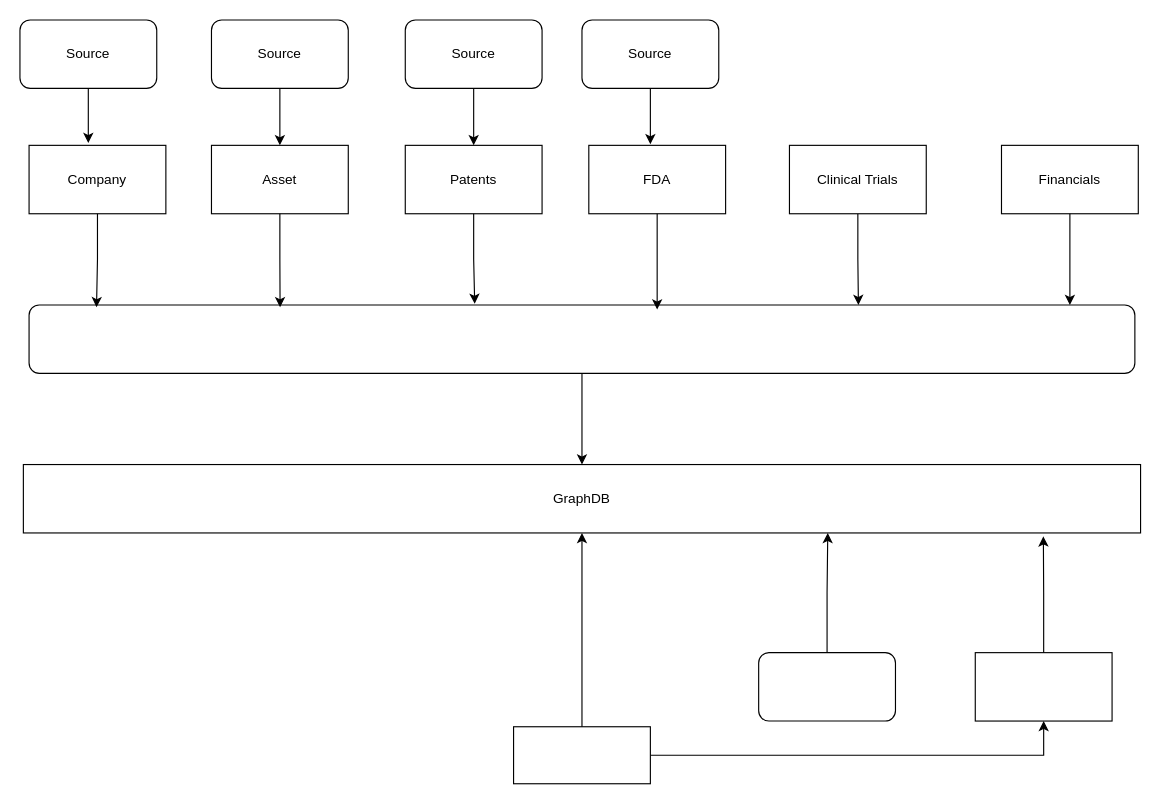
Image size: 1161x804. Some labels were removed from this diagram. Here are the shapes that lost their labels. From the top down, the box of each, then its label:
(28, 304, 1135, 373): Transform
(758, 652, 895, 721): ML
(974, 652, 1112, 721): AI
(512, 726, 650, 784): API
